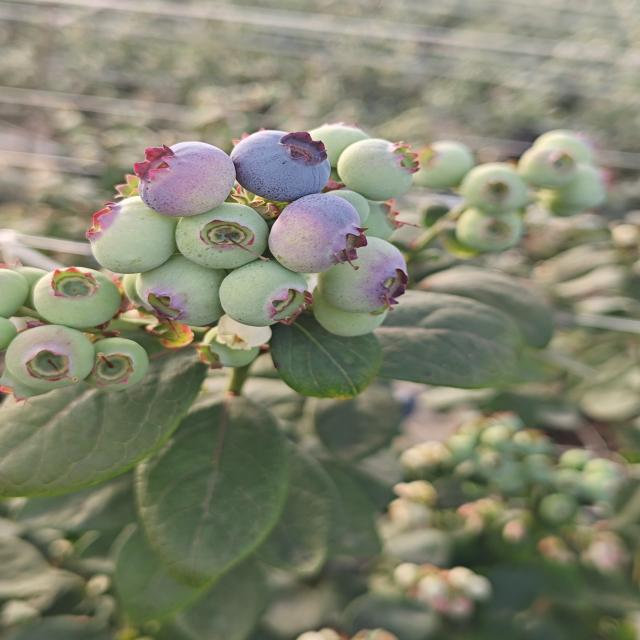ripe: (227, 118, 334, 202)
